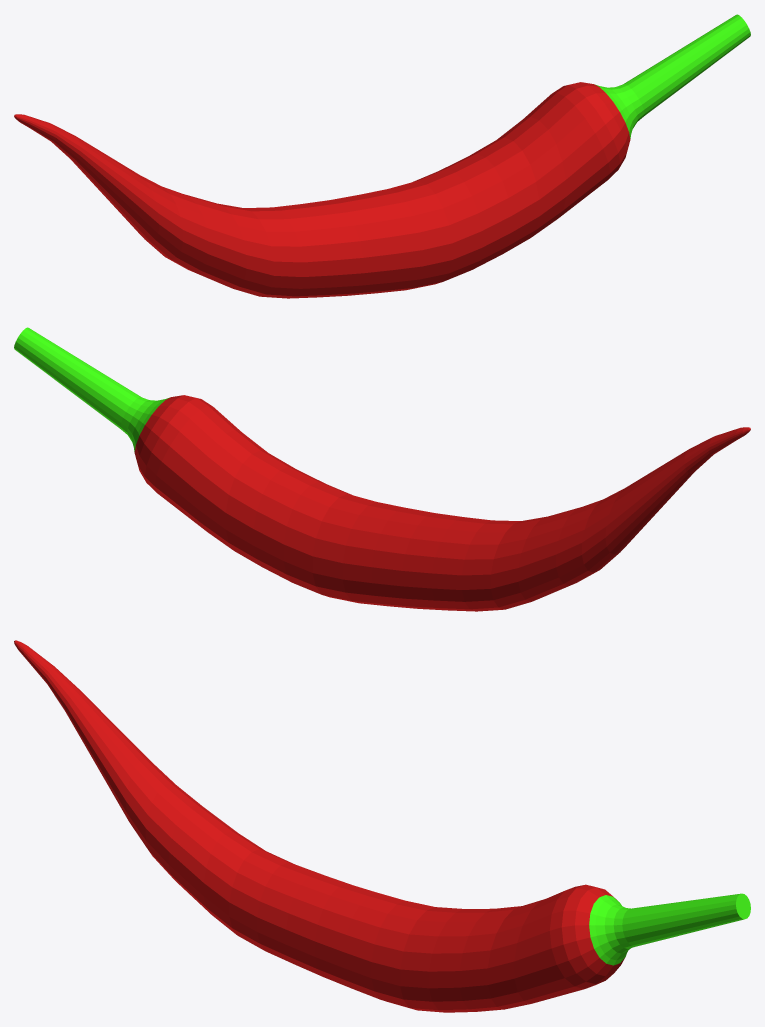
Rendered from 118548e5-7738-49dd-bac6-4dfdfff1a6ec.glb.
3 views of the same model, one above another, from view 1: azimuth 30°, elevation 25°; view 2: azimuth 150°, elevation 25°; view 3: azimuth 330°, elevation 25° (orthographic).
Visible parts, largest first — view 1: Cylinder001; view 2: Cylinder001; view 3: Cylinder001.
Boxes of the visible parts, left/top/right/bottom form: Cylinder001: left=14, top=14, right=750, bottom=298; Cylinder001: left=14, top=327, right=750, bottom=611; Cylinder001: left=14, top=640, right=750, bottom=1012.
Bounding box in the file's own units: 1039288 × 360440 × 128377.
